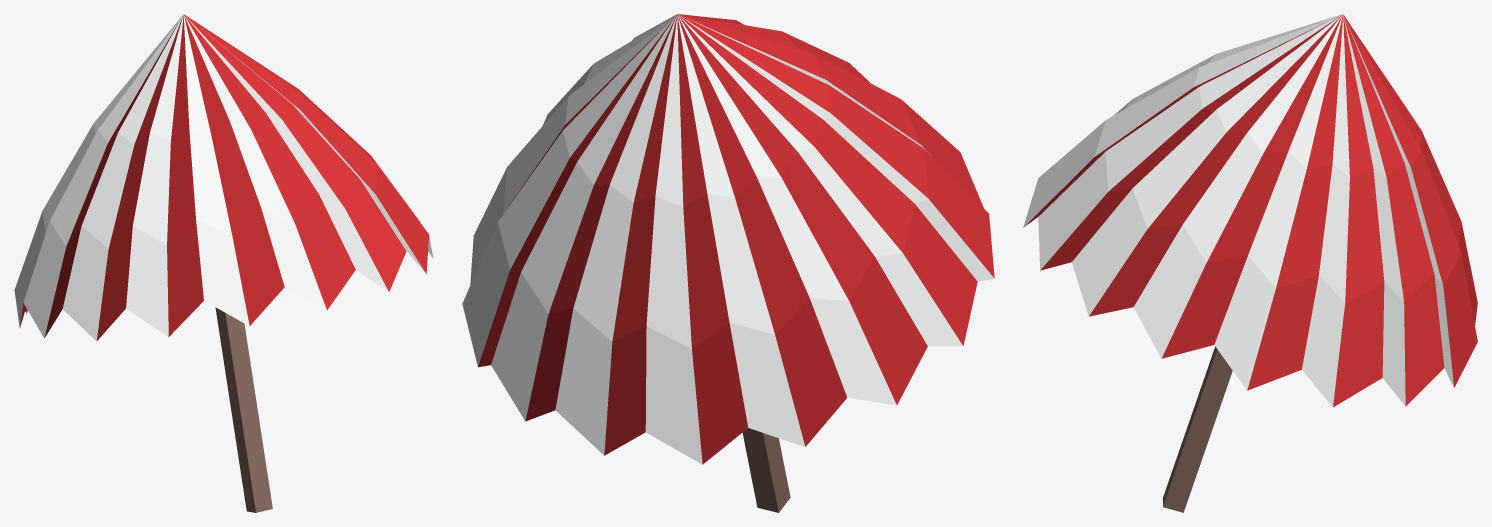
File: umbrella.fbx
The picture shows the model from 3 angles, left to right: view 1: azimuth 30°, elevation 25°; view 2: azimuth 150°, elevation 25°; view 3: azimuth 270°, elevation 25°; orthographic projection. The views are drawn at different scales.
Parts seen in each view (by area): view 1: umbrella; view 2: umbrella; view 3: umbrella.
Boxes of the visible parts, box(x1,y1,x2,y2) form: umbrella: box(14, 14, 433, 512); umbrella: box(462, 14, 994, 512); umbrella: box(1023, 14, 1477, 512).
Bounding box in the file's own units: 117 × 136 × 114.
